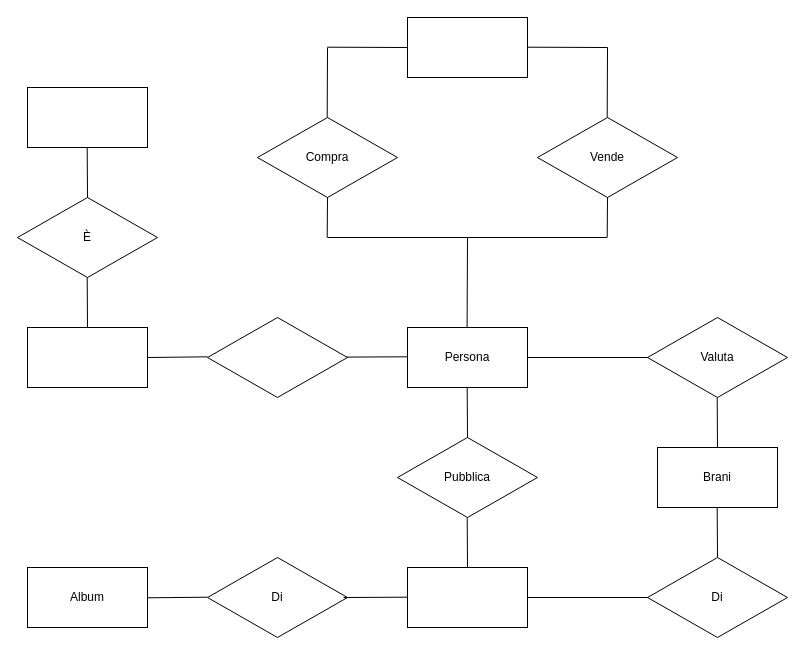
This 805x655 diagram has some shape labels left out. The box of each missing label's shape, as (x1, y1, x2, y2) in pixels:
Artista: (26, 86, 148, 148)
Biglietti: (406, 16, 528, 78)
Recensioni: (406, 566, 528, 628)
Sceglie: (206, 316, 348, 398)
Vincitore: (26, 326, 148, 388)
